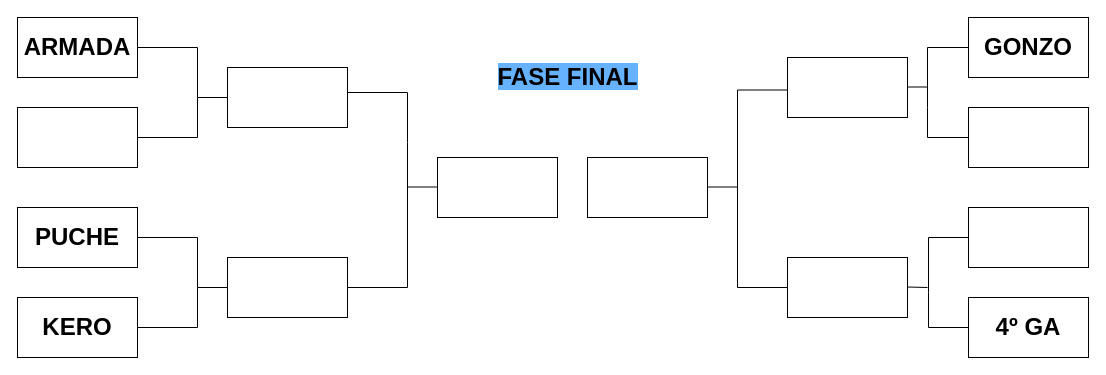
The diagram is 1106 pixels wide and 375 high, and some of its shapes have lost their labels. Each missing label, with the centre of its shape:
"LOPE" belongs at pixel 1028 237.
"PALOP" belongs at pixel 1028 137.
"PAPU" belongs at pixel 77 137.
